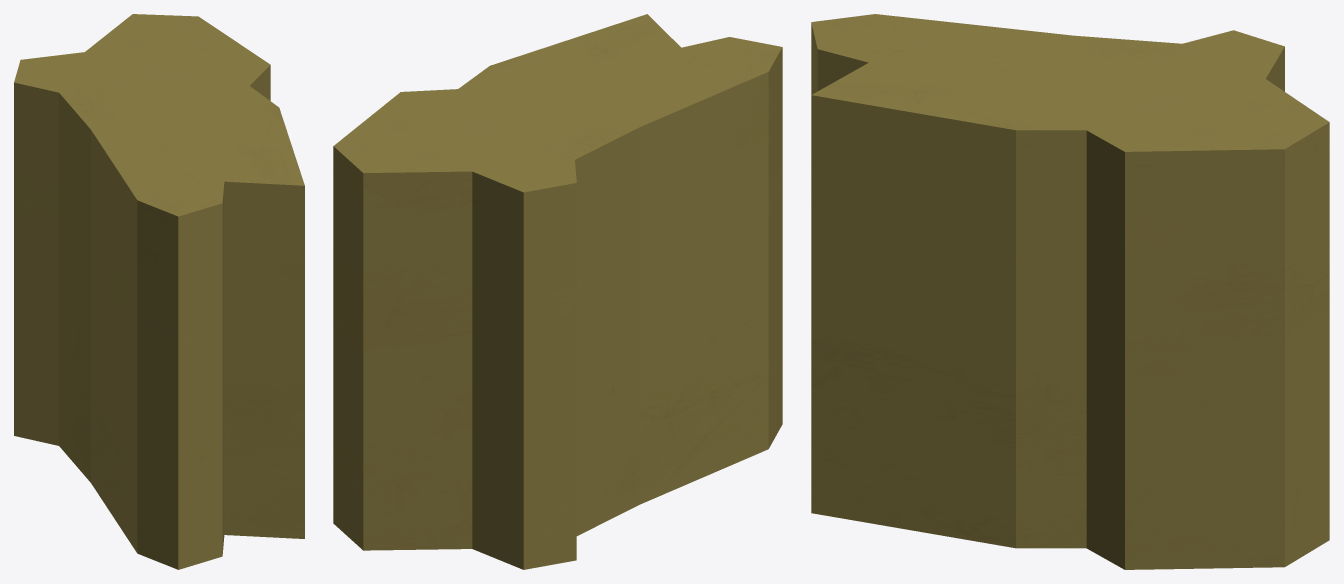
Rendered from sardinia.DAE.
The picture shows the model from 3 angles, left to right: view 1: azimuth 30°, elevation 25°; view 2: azimuth 150°, elevation 25°; view 3: azimuth 270°, elevation 25°; orthographic projection. The views are drawn at different scales.
Parts seen in each view (by area): view 1: Sardinia; view 2: Sardinia; view 3: Sardinia.
Boxes of the visible parts, bbox=[...] form: Sardinia: bbox=[14, 14, 304, 569]; Sardinia: bbox=[333, 14, 782, 569]; Sardinia: bbox=[811, 14, 1329, 569].
Bounding box in the file's own units: 17.69 × 28.1 × 25.
1 material, 1 textured.
